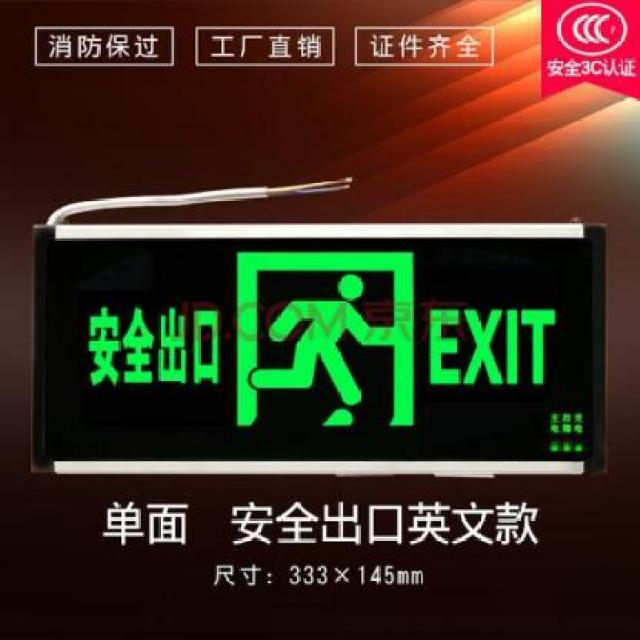exit_sign: (32, 232, 602, 473)
